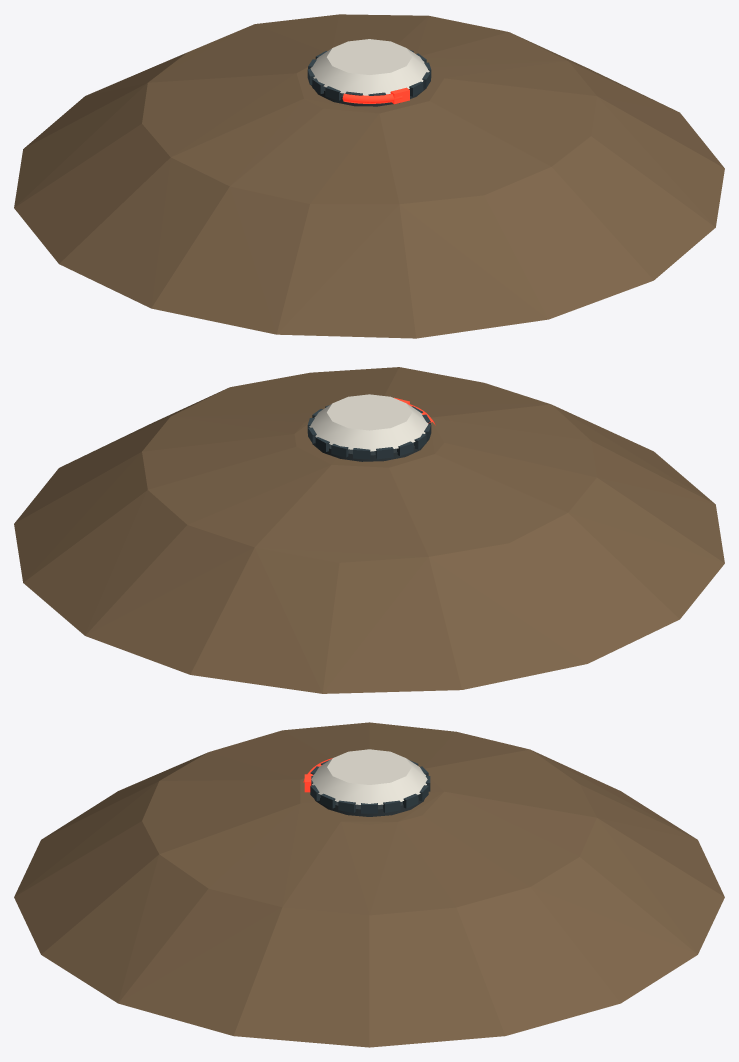
The picture shows the model from 3 angles, top to bottom: view 1: azimuth 30°, elevation 25°; view 2: azimuth 150°, elevation 25°; view 3: azimuth 270°, elevation 25°; orthographic projection.
Parts seen in each view (by area): view 1: mine-mound-fleet-soil, mine-chassis-fleet-armor, mine-chassis-fleet-glass, mine-scanner-fleet-scanner; view 2: mine-mound-fleet-soil, mine-chassis-fleet-armor, mine-chassis-fleet-glass; view 3: mine-mound-fleet-soil, mine-chassis-fleet-armor, mine-chassis-fleet-glass, mine-chassis-fleet-machine.
Part boxes in pixels (left/top/right/bottom): mine-mound-fleet-soil: left=14, top=14, right=724, bottom=338; mine-chassis-fleet-armor: left=310, top=39, right=429, bottom=95; mine-chassis-fleet-glass: left=307, top=50, right=431, bottom=104; mine-scanner-fleet-scanner: left=342, top=87, right=409, bottom=104; mine-mound-fleet-soil: left=14, top=367, right=724, bottom=693; mine-chassis-fleet-armor: left=309, top=394, right=428, bottom=451; mine-chassis-fleet-glass: left=307, top=405, right=431, bottom=459; mine-mound-fleet-soil: left=14, top=722, right=724, bottom=1047; mine-chassis-fleet-armor: left=311, top=749, right=427, bottom=804; mine-chassis-fleet-glass: left=310, top=760, right=430, bottom=813; mine-chassis-fleet-machine: left=314, top=798, right=424, bottom=816.
Size of the model in its own units: 9.47 by 1.93 by 9.47.
